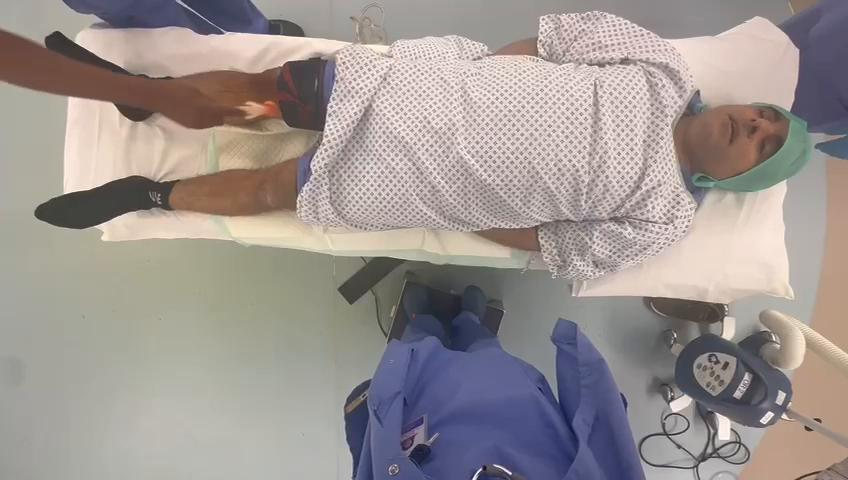bed: (36, 13, 812, 302)
patient: (36, 12, 812, 279)
prepstick: (238, 101, 282, 121)
tourniquet: (277, 58, 326, 130)
